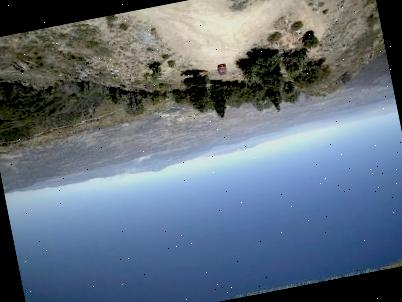smoke: (108, 153, 163, 183)
